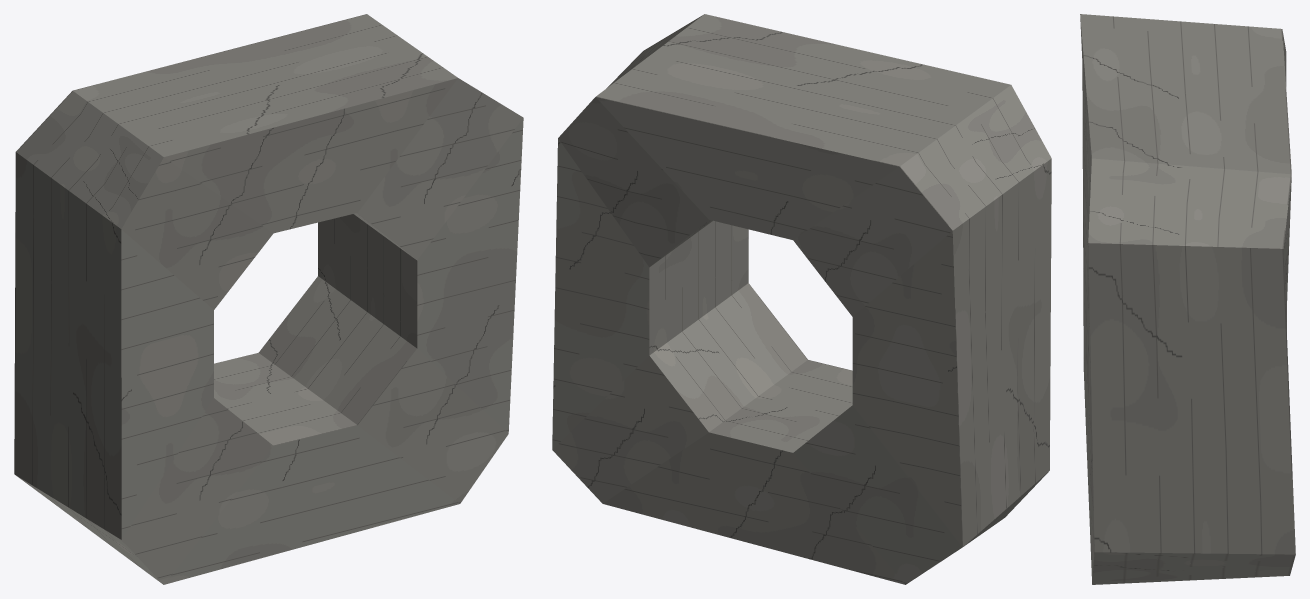
Rendered from pipe_ground_entry_v1.fbx.
3 renders of one model, left to right at view 1: azimuth 30°, elevation 25°; view 2: azimuth 150°, elevation 25°; view 3: azimuth 270°, elevation 25°, orthographic.
Visible parts, largest first — view 1: pipe_ground_entry_v1_lod0; view 2: pipe_ground_entry_v1_lod0; view 3: pipe_ground_entry_v1_lod0.
Boxes of the visible parts, left/top/right/bottom form: pipe_ground_entry_v1_lod0: left=14, top=14, right=523, bottom=584; pipe_ground_entry_v1_lod0: left=552, top=14, right=1051, bottom=584; pipe_ground_entry_v1_lod0: left=1080, top=14, right=1295, bottom=584.
Size of what is drawn, in the model's own units: 362 by 361 by 164.
